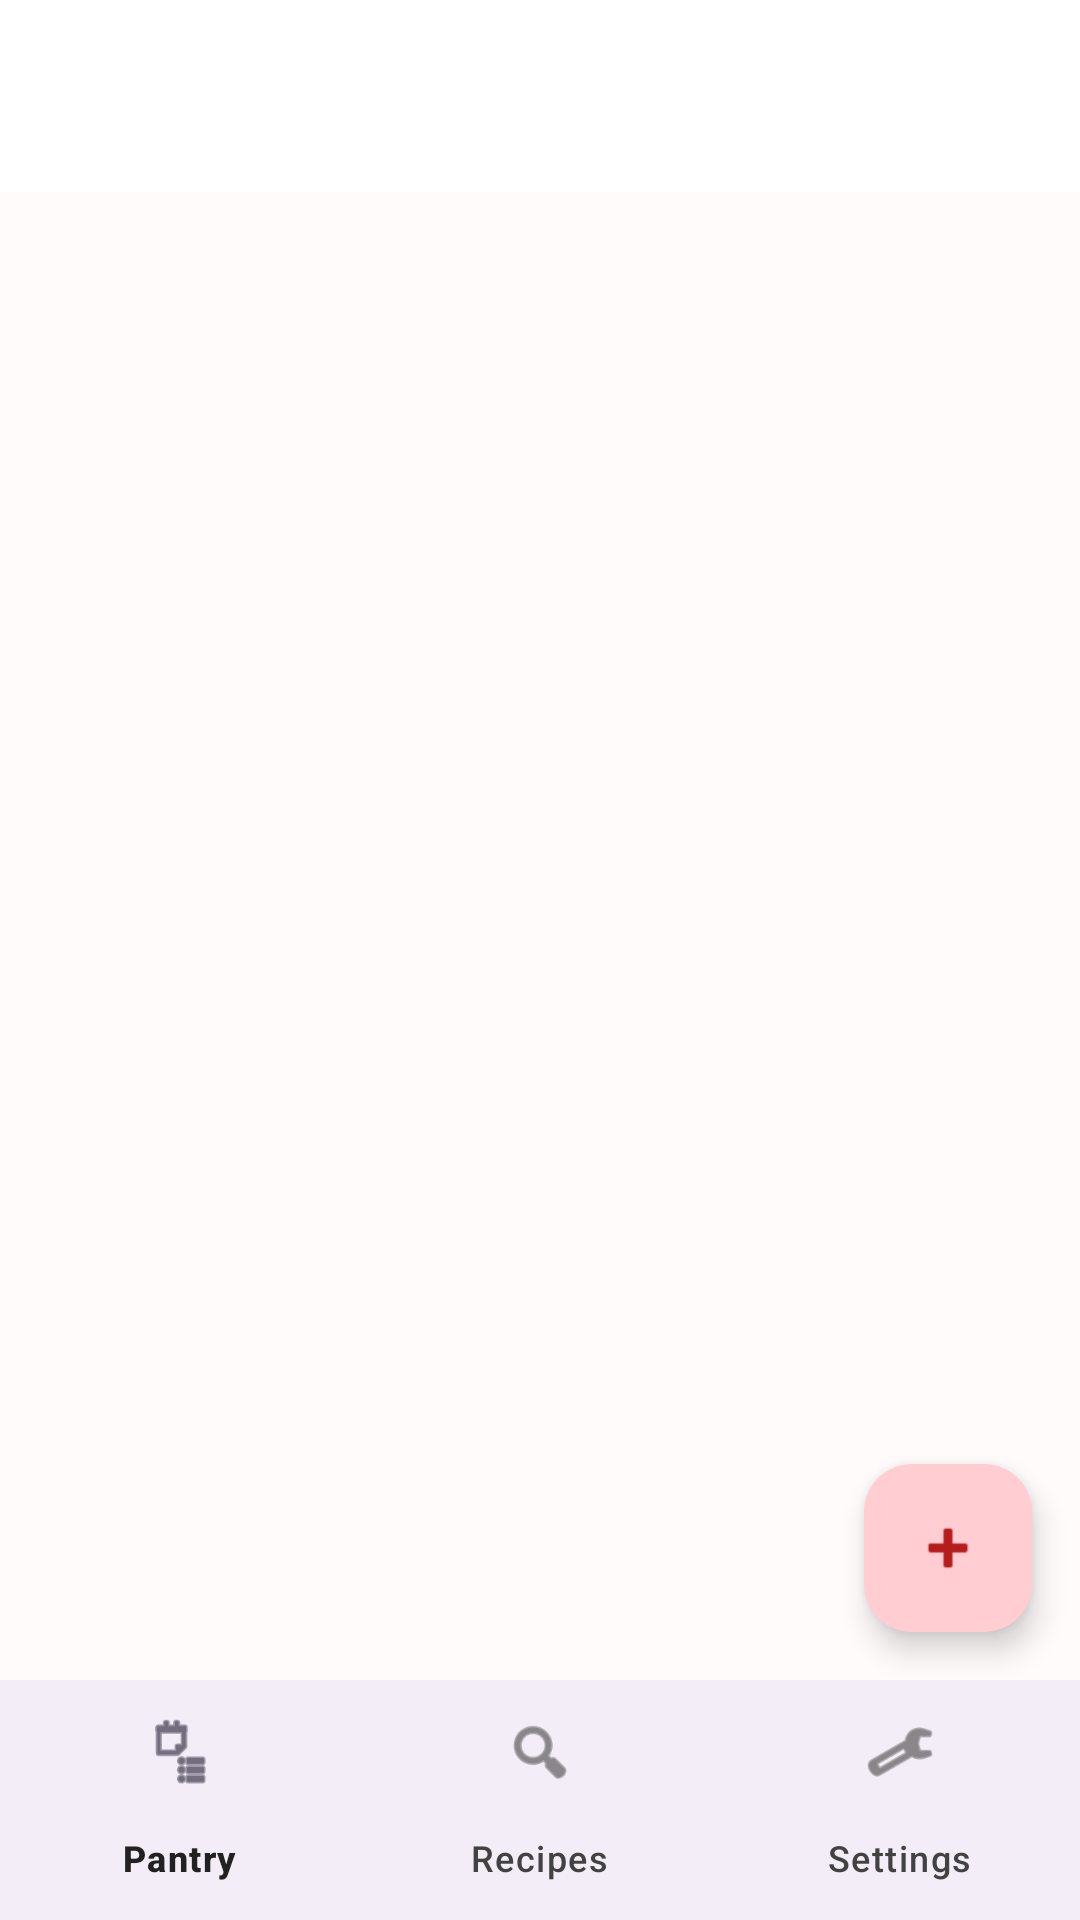

Where to tap for icons on this 1080w x 1920h app screen, as (x=x, y=y):
Add Ingredient: (x=948, y=1548)
